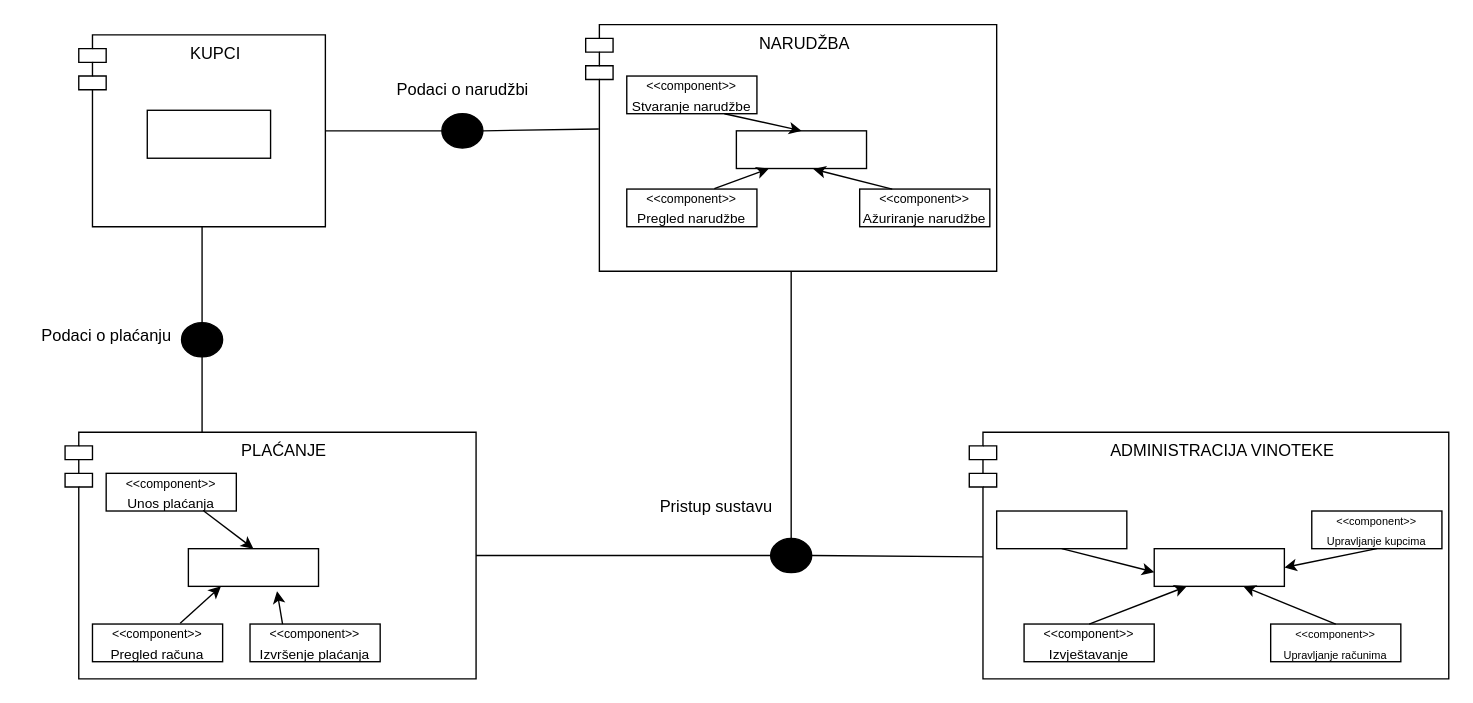
Image size: 1473x703. Some labels were removed from this diagram. The centre of each missing label's shape, as x and y in pixels:
"<< component>> Upravljanje vinima" goes at pixel 1061 529.
"<<component>> Administrator" goes at pixel 1218 566.
"<<component>> Kupac" goes at pixel 208 133.
"<<component>> Narudžba" goes at pixel 801 149.
"<<component>> Plaćanje" goes at pixel 253 566.
